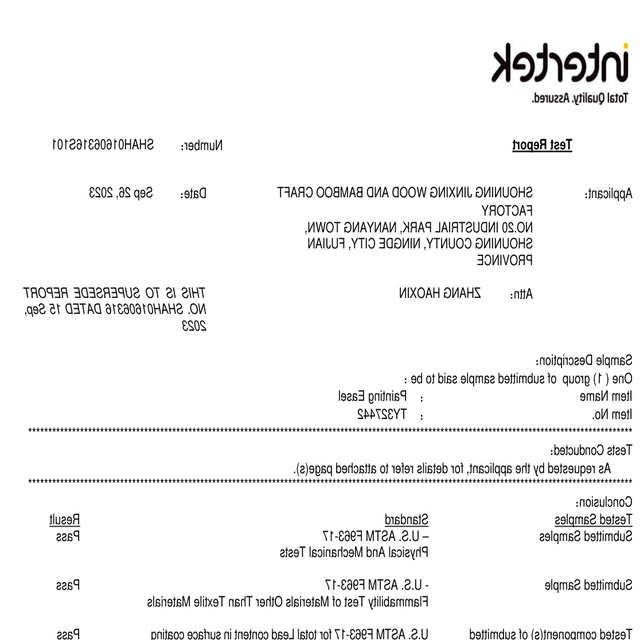intertek: (488, 39, 633, 90)
